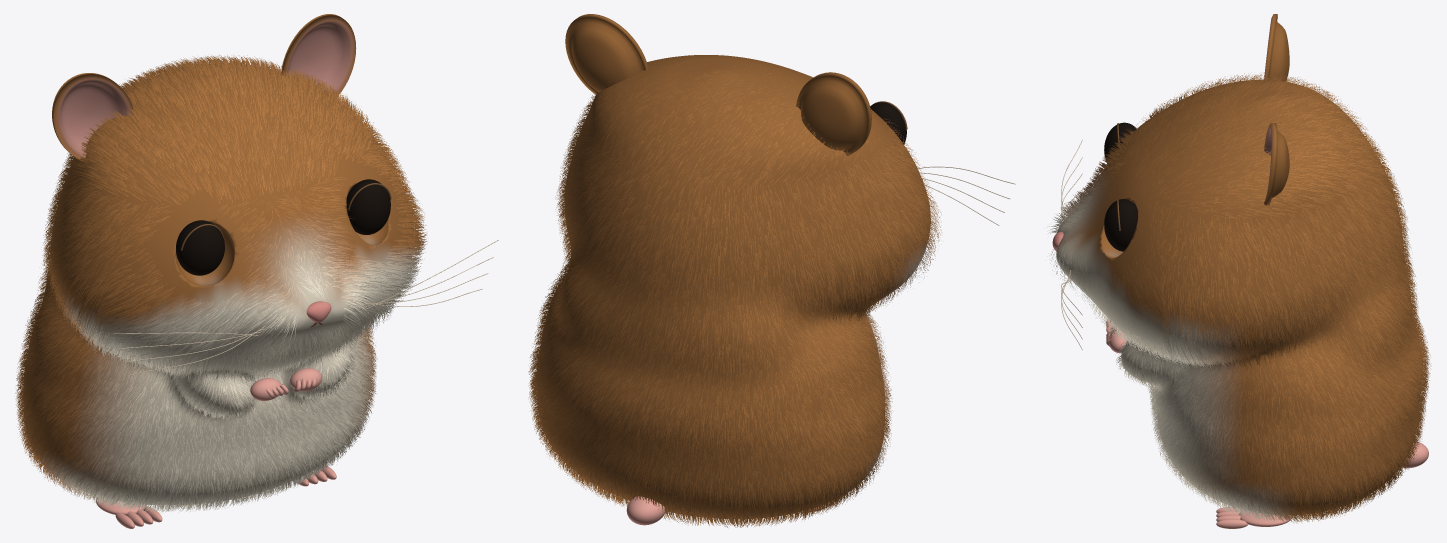
Rendered from hamster.glb.
3 renders of one model, left to right at view 1: azimuth 30°, elevation 25°; view 2: azimuth 150°, elevation 25°; view 3: azimuth 270°, elevation 25°, orthographic. The views are drawn at different scales.
Parts seen in each view (by area): view 1: Hamster continuous skin, Golden and cream short groom, Ear L, Ear R, Eye L, Eye R; view 2: Hamster continuous skin, Golden and cream short groom, Ear L, Ear R, Short tail, Eye L; view 3: Hamster continuous skin, Golden and cream short groom, Ear R, Eye R, Ear L, Eye L, Hind foot.001.
Part boxes in pixels (left/top/right/bottom): Hamster continuous skin: left=23, top=63, right=414, bottom=505; Golden and cream short groom: left=15, top=55, right=427, bottom=512; Ear L: left=52, top=73, right=133, bottom=161; Ear R: left=281, top=14, right=356, bottom=96; Eye L: left=176, top=220, right=224, bottom=275; Eye R: left=346, top=179, right=390, bottom=234; Hamster continuous skin: left=536, top=55, right=930, bottom=519; Golden and cream short groom: left=528, top=55, right=941, bottom=527; Ear L: left=796, top=72, right=871, bottom=155; Ear R: left=565, top=14, right=648, bottom=94; Short tail: left=626, top=496, right=665, bottom=525; Eye L: left=870, top=102, right=906, bottom=144; Hamster continuous skin: left=1056, top=79, right=1423, bottom=515; Golden and cream short groom: left=1048, top=73, right=1430, bottom=523; Ear R: left=1264, top=123, right=1289, bottom=205; Eye R: left=1104, top=199, right=1138, bottom=251; Ear L: left=1264, top=14, right=1289, bottom=81; Eye L: left=1104, top=122, right=1136, bottom=163; Hind foot.001: left=1239, top=510, right=1292, bottom=526.
Bounding box in the file's own units: 1.68 × 1.83 × 1.57.
